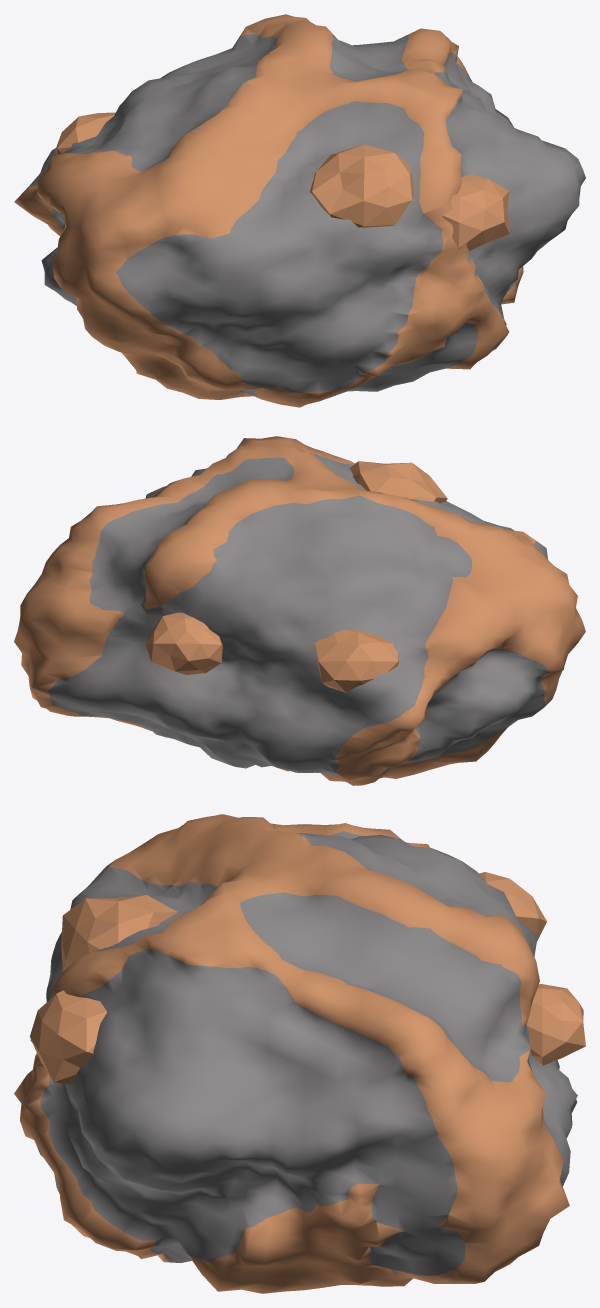
File: copper_surface.glb
The picture shows the model from 3 angles, top to bottom: view 1: azimuth 30°, elevation 25°; view 2: azimuth 150°, elevation 25°; view 3: azimuth 270°, elevation 25°; orthographic projection. The views are drawn at different scales.
Visible parts, largest first — view 1: copper_surface; view 2: copper_surface; view 3: copper_surface.
Part boxes in pixels (left/top/right/bottom): copper_surface: left=14, top=14, right=585, bottom=407; copper_surface: left=14, top=436, right=585, bottom=785; copper_surface: left=14, top=814, right=585, bottom=1293.
Bounding box in the file's own units: 1.04 × 0.632 × 0.839.
